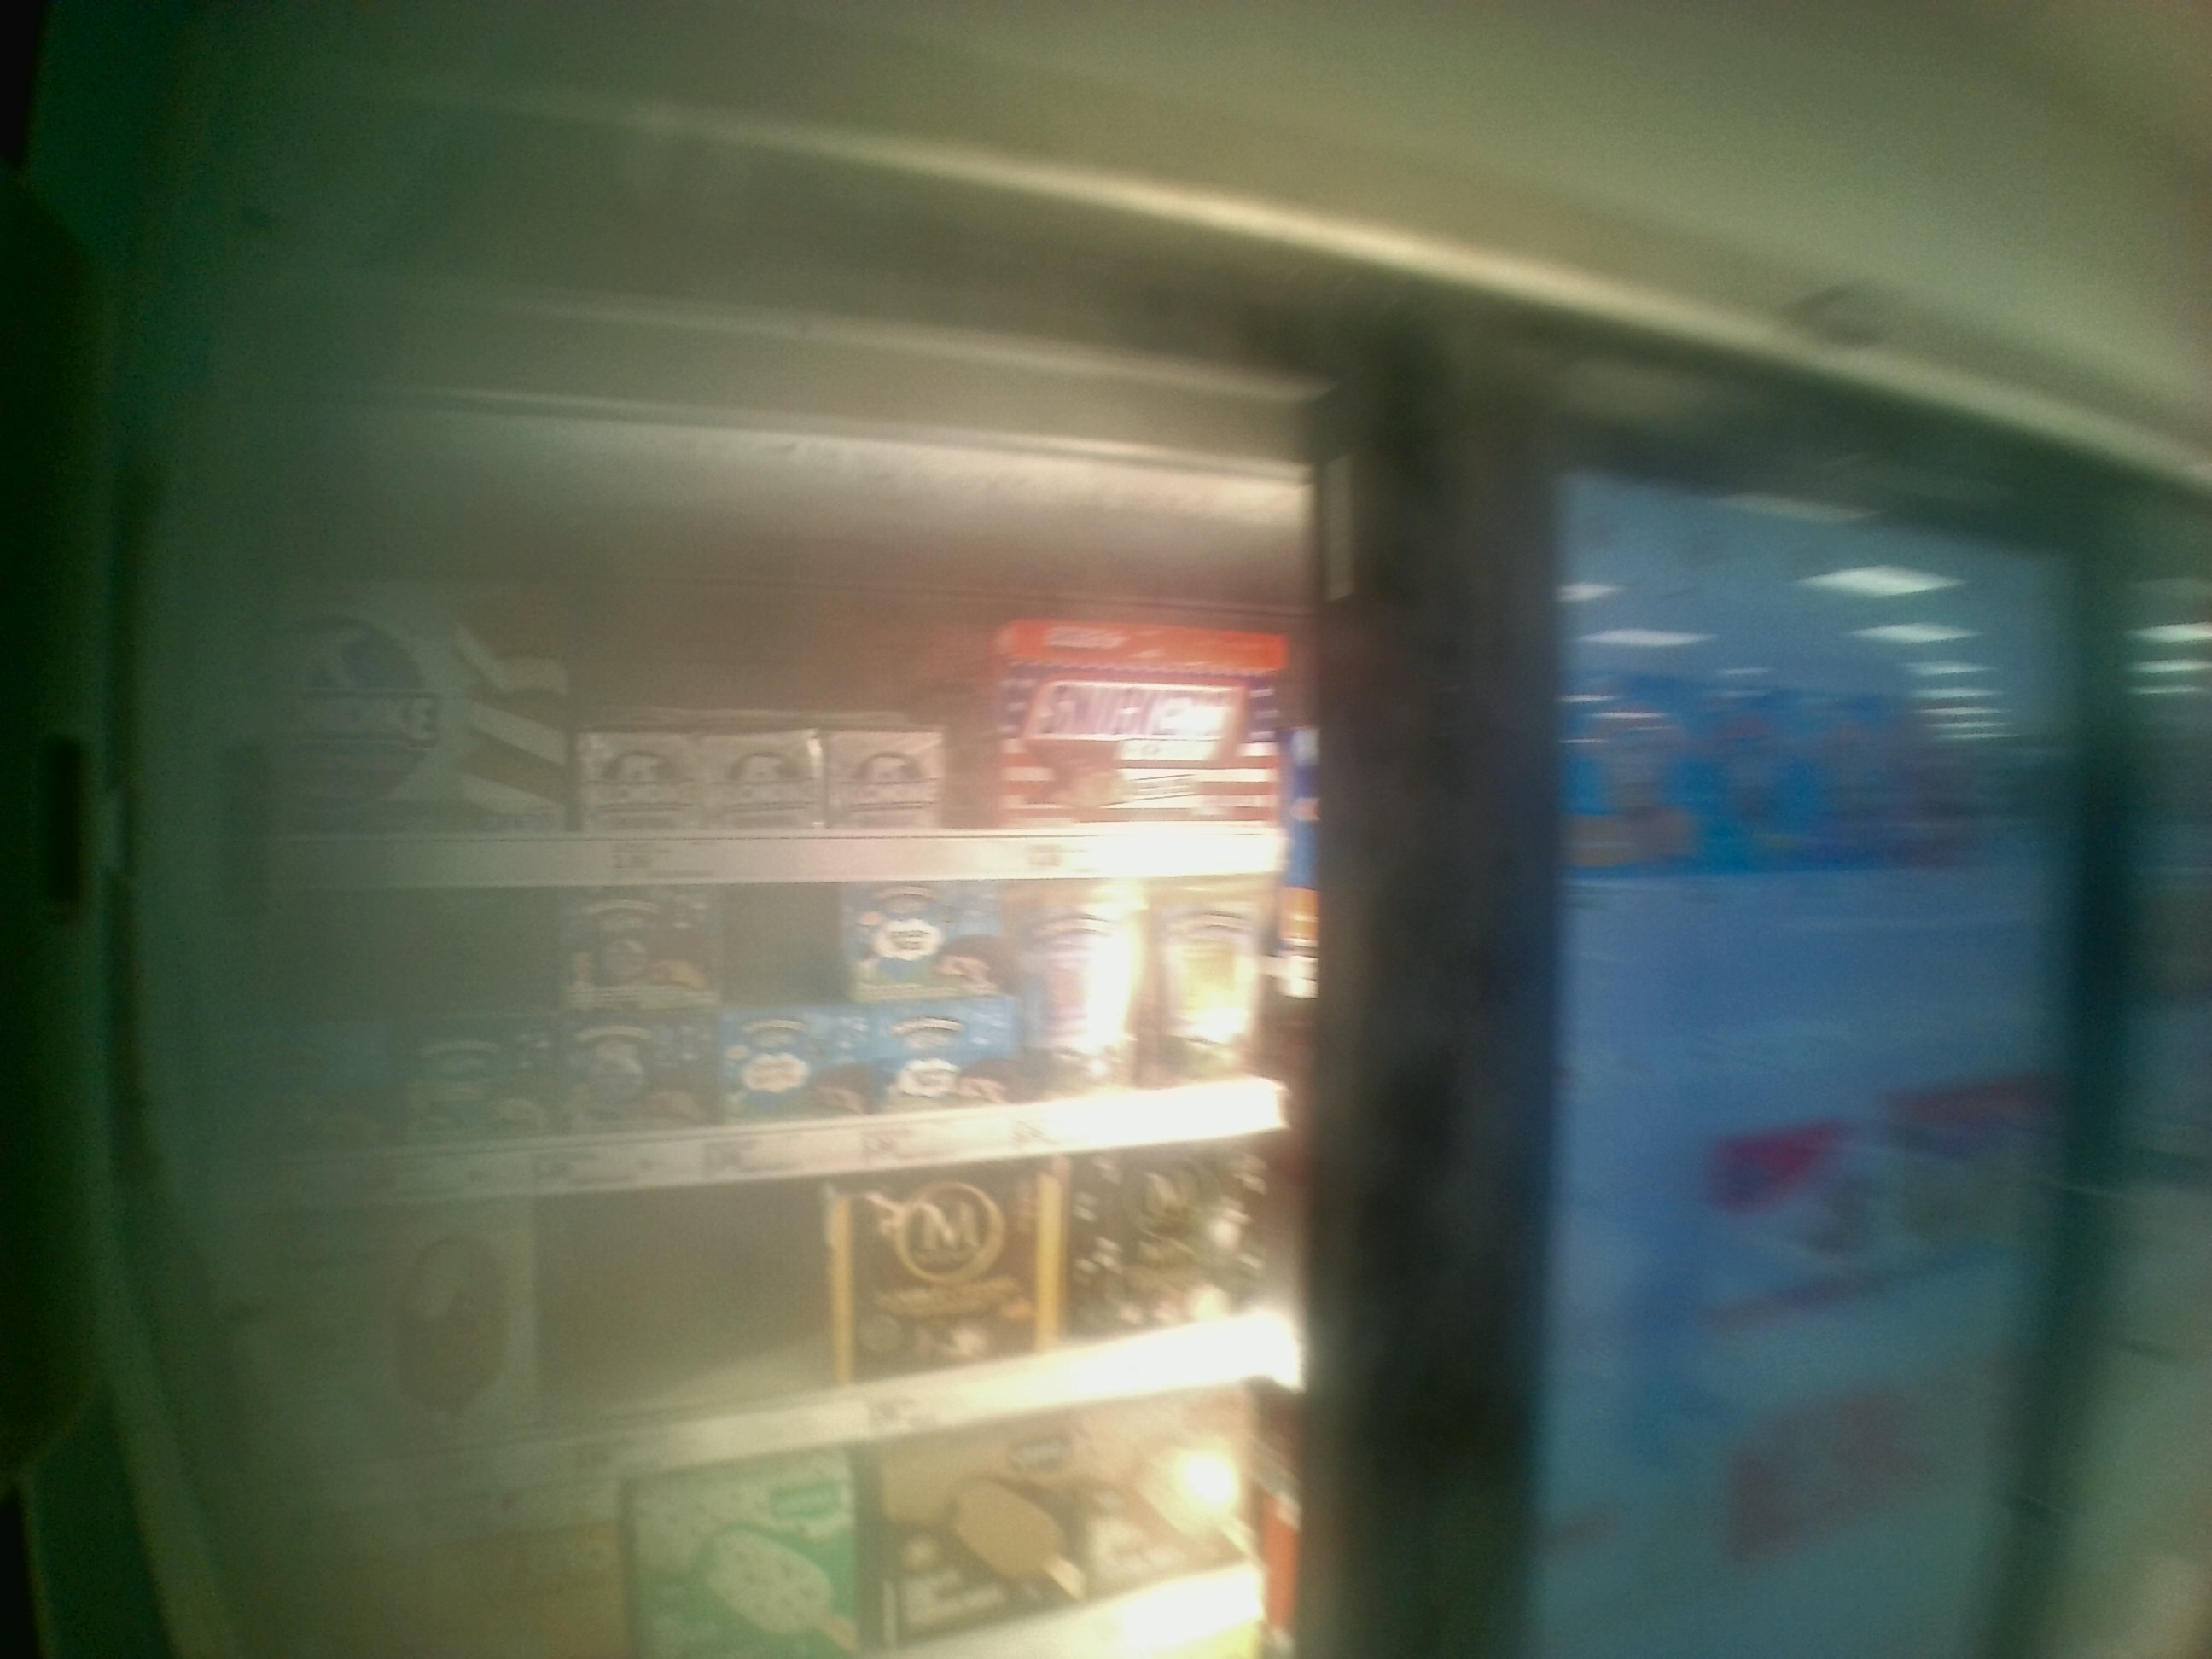ice-cream-shelf: (209, 437, 1325, 877), (221, 878, 1308, 1213)
